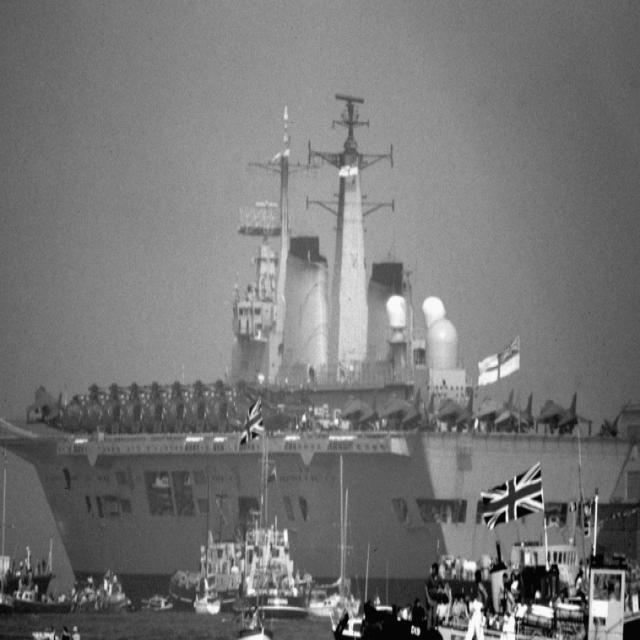Portanaves: (1, 91, 636, 599)
